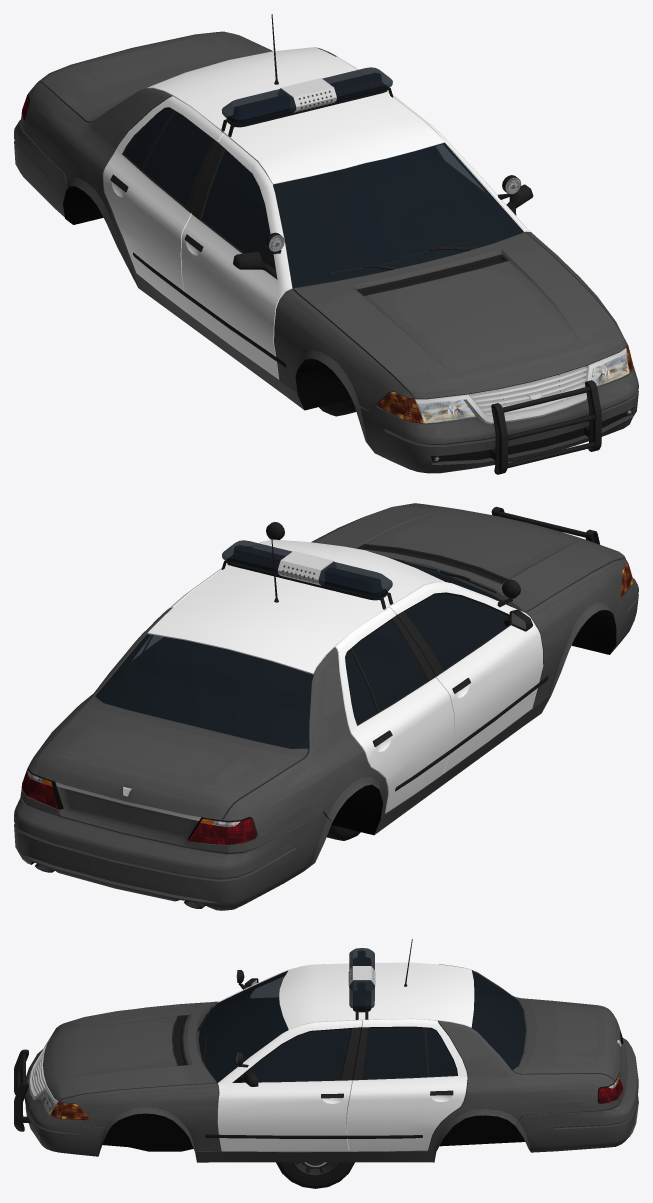
The model's file is police.glb.
The picture shows the model from 3 angles, top to bottom: view 1: azimuth 30°, elevation 25°; view 2: azimuth 150°, elevation 25°; view 3: azimuth 270°, elevation 25°; orthographic projection. The views are drawn at different scales.
Visible parts, largest first — view 1: paint, glass, head, tail; view 2: paint, glass, tail, head; view 3: paint, glass, wheel0, tail, head.
Part boxes in pixels (<box>): paint: <box>14,14,638,474</box>; glass: <box>124,67,523,288</box>; head: <box>22,79,633,462</box>; tail: <box>21,95,633,423</box>; paint: <box>14,503,638,910</box>; glass: <box>95,540,514,748</box>; tail: <box>21,563,633,844</box>; head: <box>27,550,627,844</box>; paint: <box>14,939,638,1162</box>; glass: <box>198,948,525,1082</box>; wheel0: <box>276,1162,354,1188</box>; tail: <box>50,1076,623,1120</box>; head: <box>39,972,623,1138</box>.
Size of the model in its own units: 2 by 2.24 by 5.17.
Materials: 5 (4 with a texture image).
